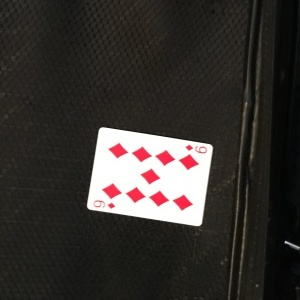card: (86, 123, 214, 227)
